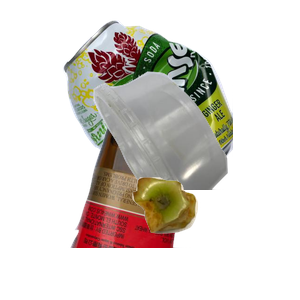glass: (68, 120, 255, 300)
metal: (60, 18, 300, 198)
plastic: (91, 69, 300, 249)
trash: (130, 175, 300, 300)
